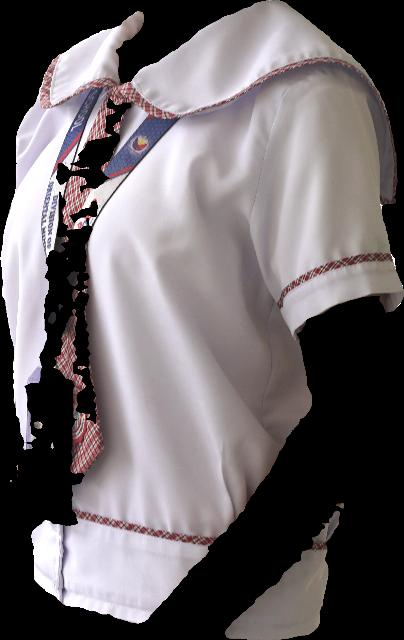pologirl: (1, 0, 403, 623)
